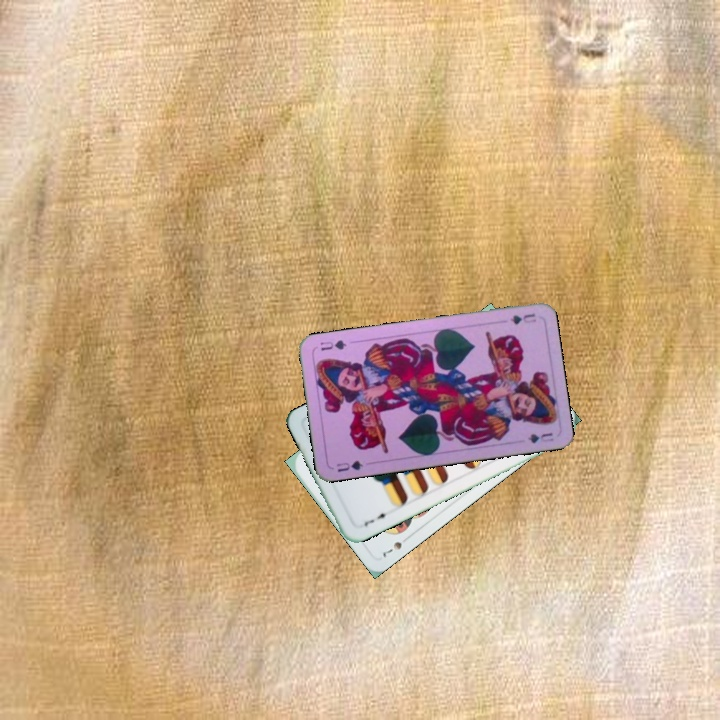E7: (360, 509, 392, 529)
GU: (332, 456, 366, 475), (506, 309, 539, 327)
S7: (378, 532, 412, 560)
